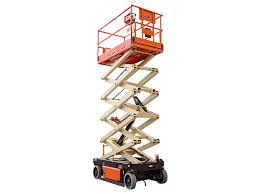Scissor Lift: (92, 4, 169, 189)
